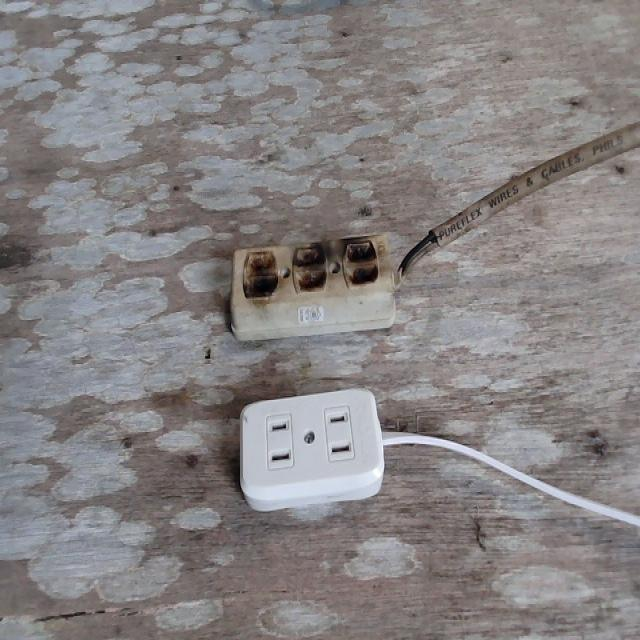-: (237, 232, 387, 301)
